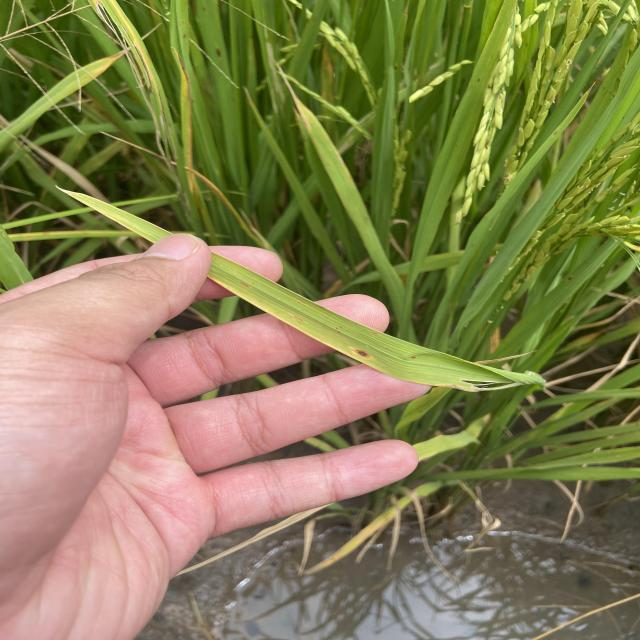Dao on: (354, 349, 371, 358)
